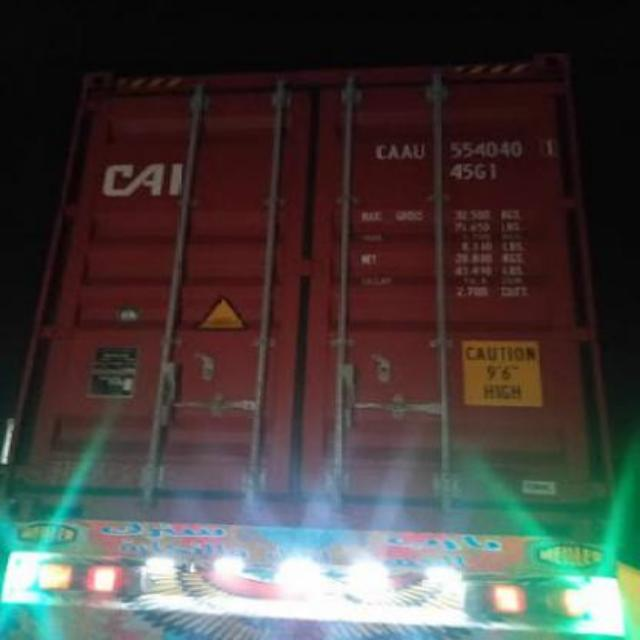0: (512, 136, 524, 160), (486, 138, 496, 158)
1: (542, 135, 556, 161)
4: (496, 136, 509, 160), (474, 139, 484, 159)
5: (448, 139, 460, 159), (462, 138, 474, 158)
A: (398, 142, 412, 160), (386, 144, 398, 160)
C: (374, 142, 386, 162)
U: (412, 142, 424, 160)
